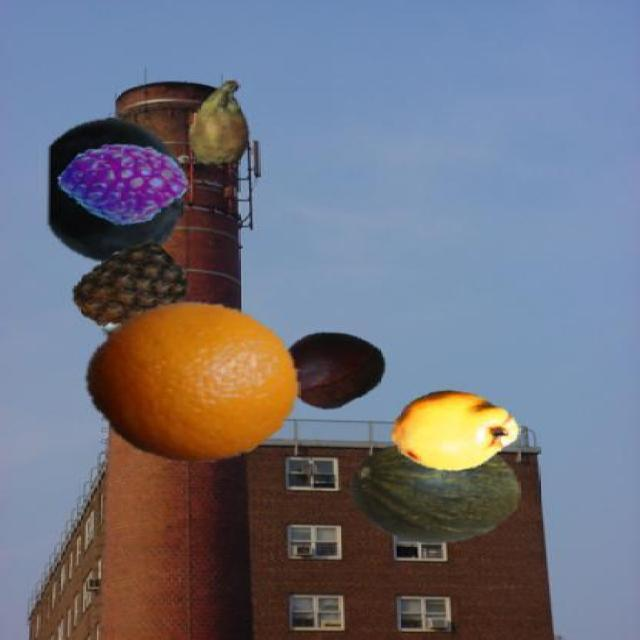Orange: (80, 296, 300, 464)
